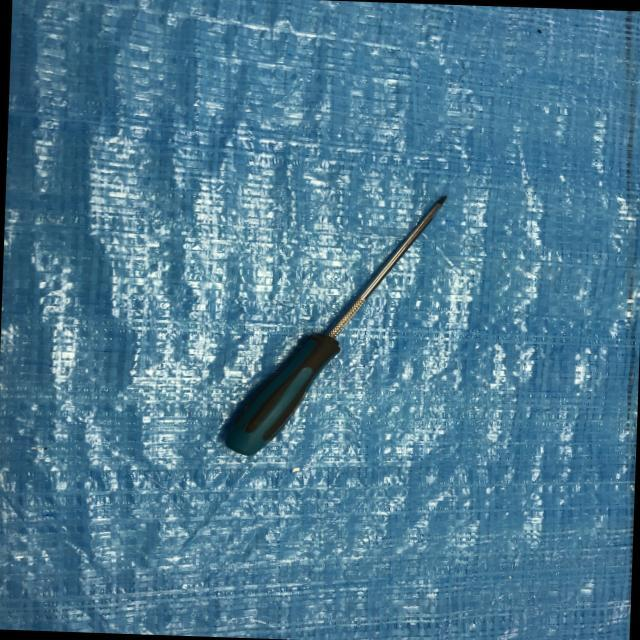screwdriver: (193, 184, 465, 486)
